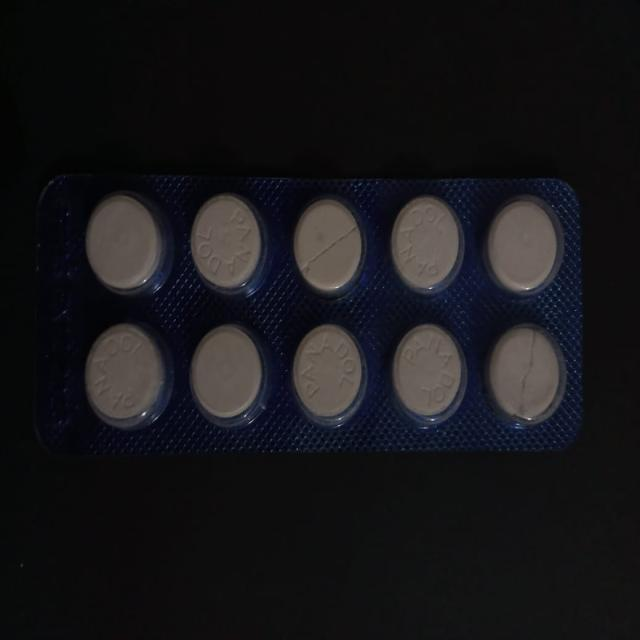defect: (480, 316, 570, 435), (289, 192, 371, 303)
